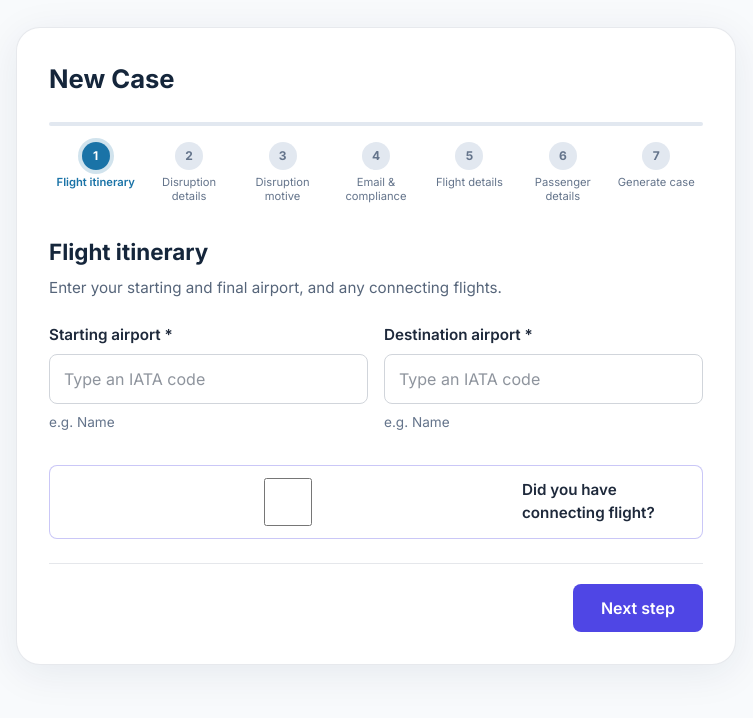
Test: Flight itinerary behavior › shows connecting flight fields when checkbox is checked
// Check the connecting flight checkbox
Click the checkbox labelled "Did you have connecting flight?" at (288, 502), box [64,478,512,526]
(page scrolled)
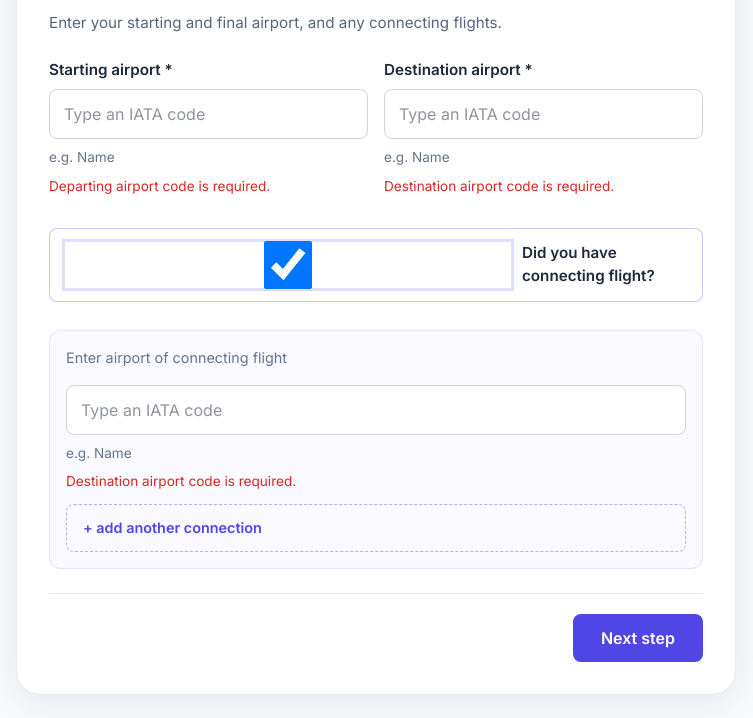
Now the button "+ add another connection" is shown, box [66,504,686,552]
